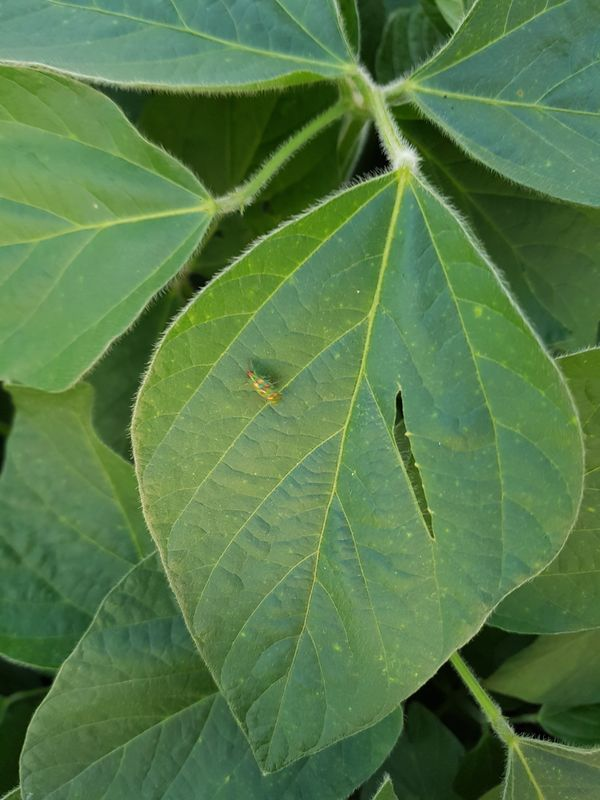Diabrotica_speciosa: (236, 362, 288, 412)
